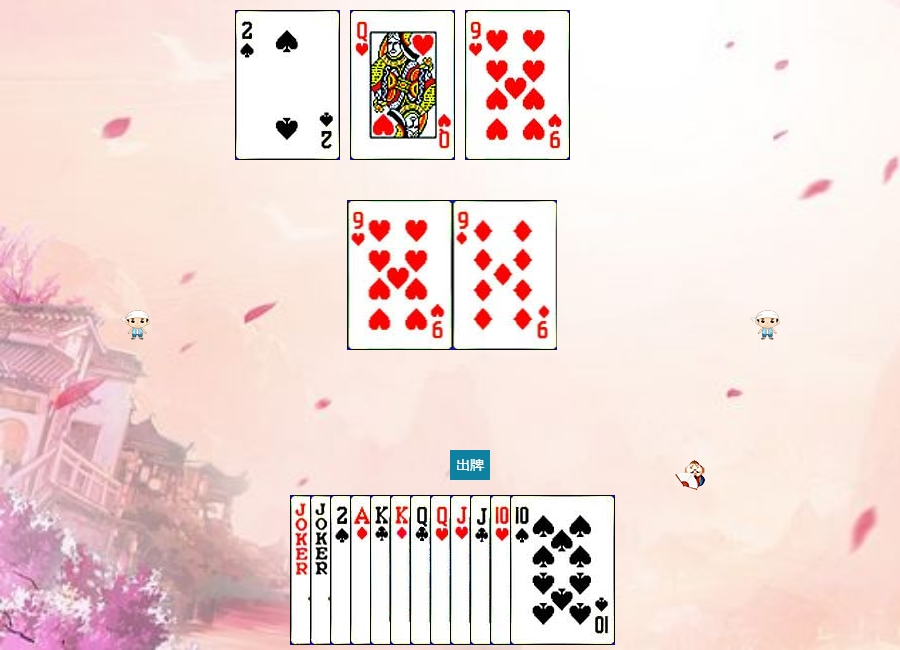10~3: (490, 495, 595, 645)
10~4: (510, 495, 615, 645)
11~2: (470, 495, 575, 645)
11~3: (450, 495, 555, 645)
12~2: (410, 495, 515, 645)
12~3: (350, 10, 455, 160), (430, 495, 535, 645)
13~1: (390, 495, 495, 645)
13~2: (370, 495, 475, 645)
14~1: (350, 495, 455, 645)
15~4: (235, 10, 340, 160), (330, 495, 435, 645)
17~3: (310, 495, 415, 645)
18~4: (290, 495, 395, 645)
9~1: (453, 200, 558, 350)
9~3: (465, 10, 570, 160), (348, 200, 453, 350)
